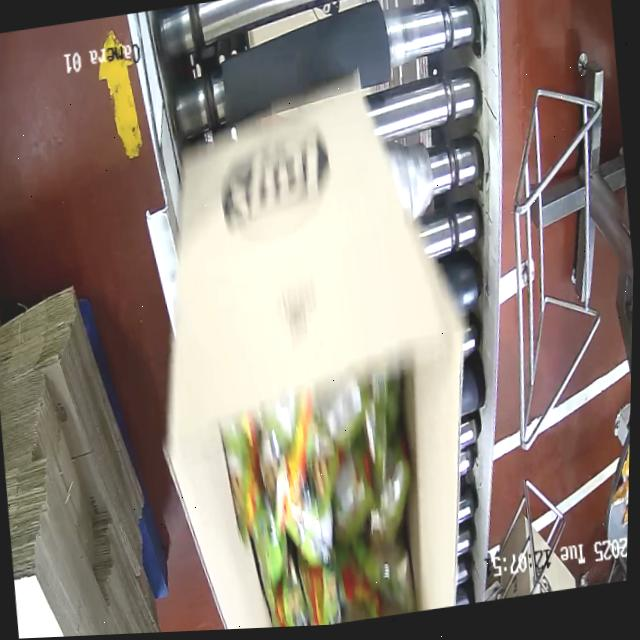YOGURT_HERB: (231, 369, 425, 629)
